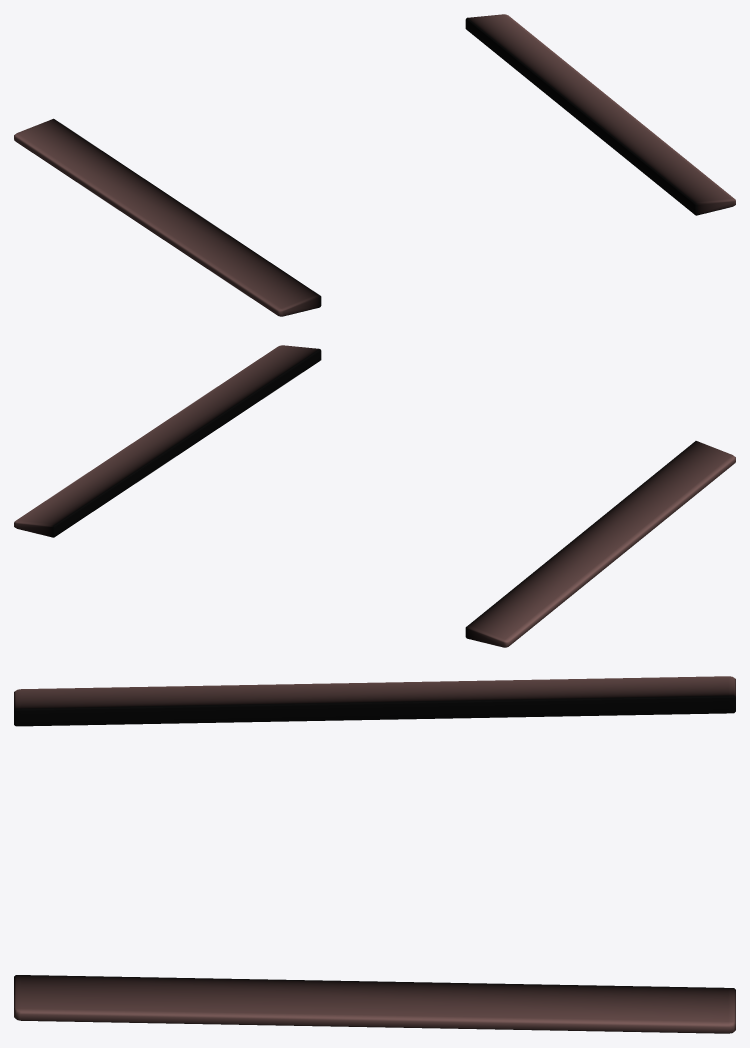
Rendered from Viper_Skirt_02_Trim.fbx.
3 renders of one model, top to bottom at view 1: azimuth 30°, elevation 25°; view 2: azimuth 150°, elevation 25°; view 3: azimuth 270°, elevation 25°, orthographic. The views are drawn at different scales.
Visible parts, largest first — view 1: Viper_Skirt_02_Trim; view 2: Viper_Skirt_02_Trim; view 3: Viper_Skirt_02_Trim.
Part boxes in pixels (x1,y1,x2,y2): Viper_Skirt_02_Trim: (14, 14, 735, 316); Viper_Skirt_02_Trim: (14, 345, 735, 647); Viper_Skirt_02_Trim: (14, 676, 735, 1033).
Bounding box in the file's own units: 193 × 4.52 × 168.
